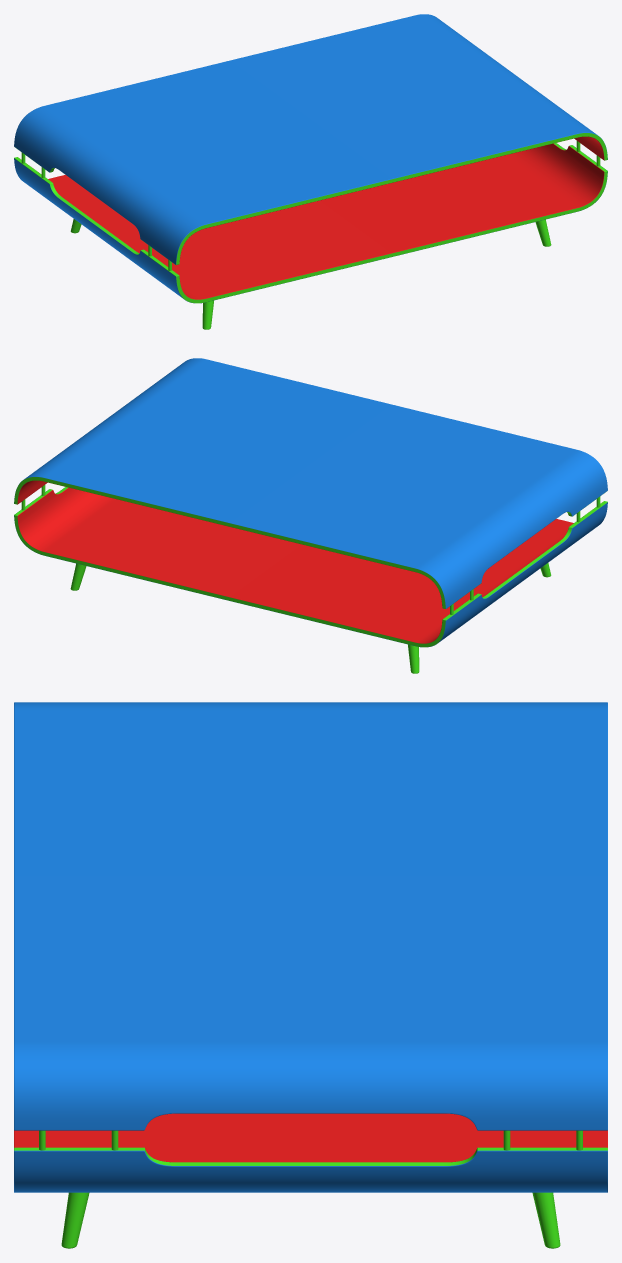
File: RetroTable01_low_RT.fbx
The picture shows the model from 3 angles, top to bottom: view 1: azimuth 30°, elevation 25°; view 2: azimuth 150°, elevation 25°; view 3: azimuth 270°, elevation 25°; orthographic projection. The views are drawn at different scales.
Visible parts, largest first — view 1: RetroTable01_low_RT; view 2: RetroTable01_low_RT; view 3: RetroTable01_low_RT.
Part boxes in pixels (x1,y1,x2,y2): RetroTable01_low_RT: [14, 14, 607, 329]; RetroTable01_low_RT: [14, 358, 607, 673]; RetroTable01_low_RT: [14, 702, 607, 1248].
Size of the model in its own units: 113 by 29.58 by 73.24.
